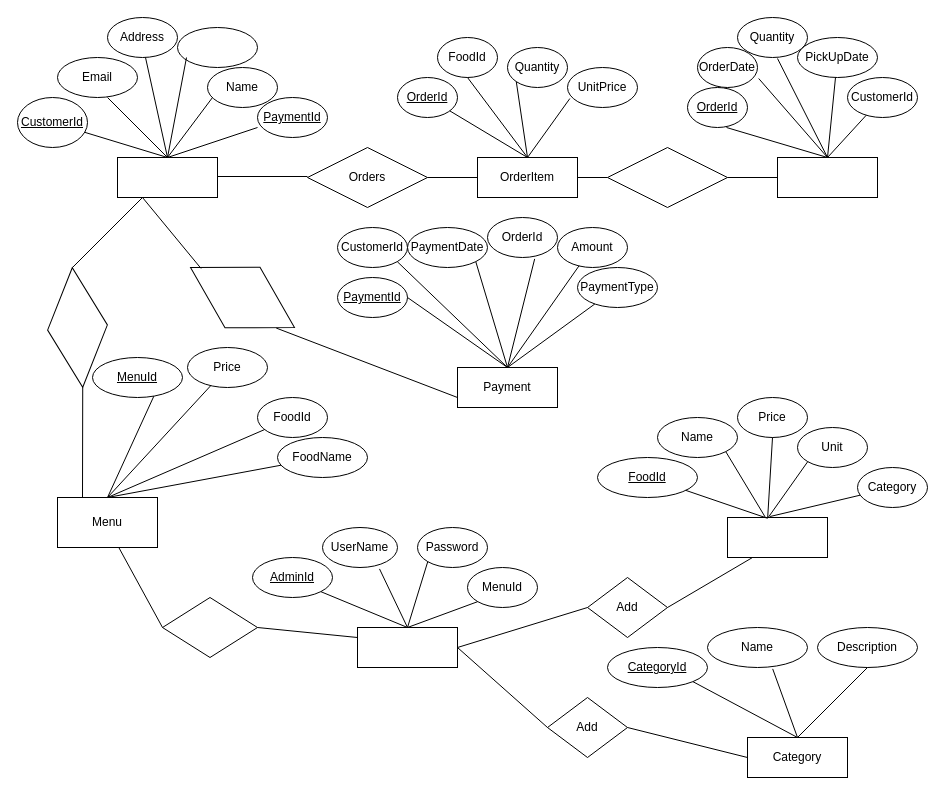
This 945x795 diagram has some shape labels left out. Here are the shapes that lost their labels. From the top down, the box of each, then its label:
(176, 26, 258, 68): PhoneNo
(116, 156, 218, 198): Customer
(606, 146, 728, 208): Place
(776, 156, 878, 198): Order
(172, 236, 312, 358): Pays
(41, 264, 113, 390): Check
(726, 516, 828, 558): FoodItem
(162, 596, 258, 658): Controls
(356, 626, 458, 668): Admin
